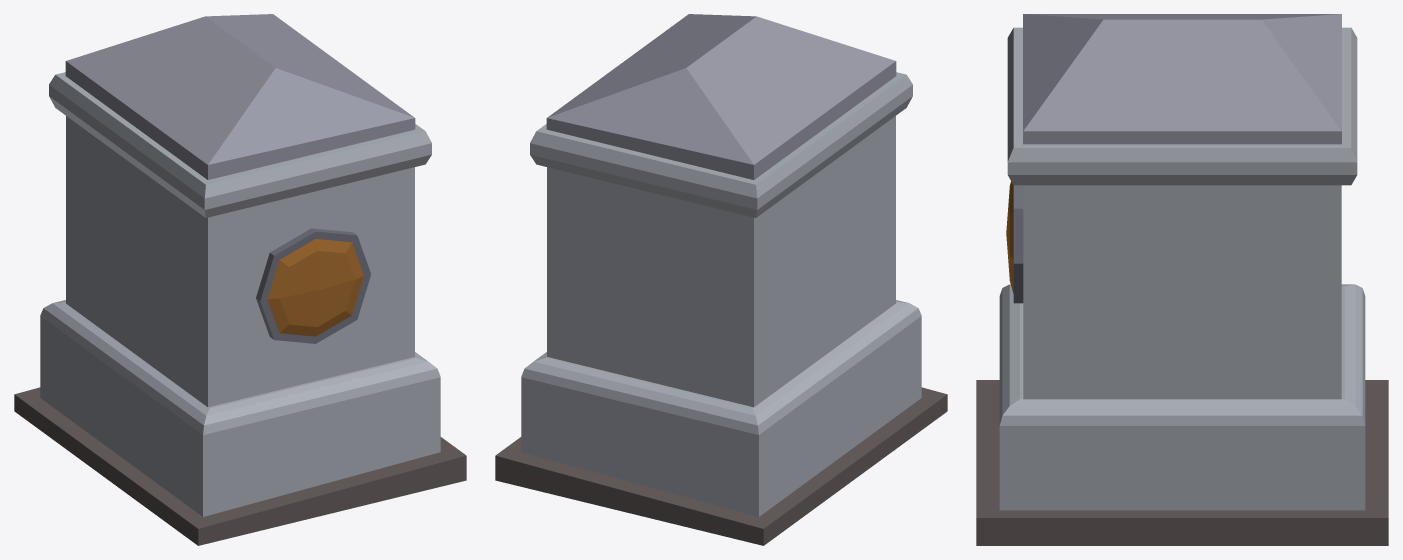
Rendered from HWN20_Grave_06.glb.
3 views of the same model, side by side, from view 1: azimuth 30°, elevation 25°; view 2: azimuth 150°, elevation 25°; view 3: azimuth 270°, elevation 25° (orthographic). The views are drawn at different scales.
Visible parts, largest first — view 1: HWN20_Grave_06; view 2: HWN20_Grave_06; view 3: HWN20_Grave_06.
Part boxes in pixels (box(x1,y1,x2,y2)): HWN20_Grave_06: box(14, 14, 466, 545); HWN20_Grave_06: box(495, 14, 947, 545); HWN20_Grave_06: box(976, 14, 1388, 545).
Size of what is drawn, in the model's own units: 0.9877 by 1.42 by 1.17.
1 material, 1 textured.
